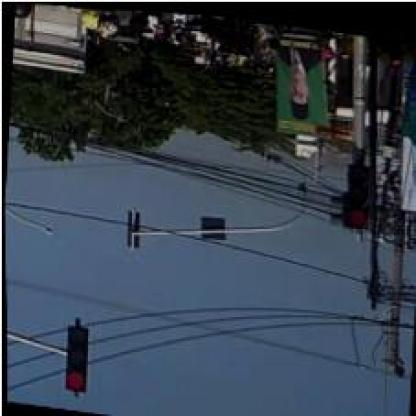red: (344, 158, 374, 226), (61, 324, 86, 392)
